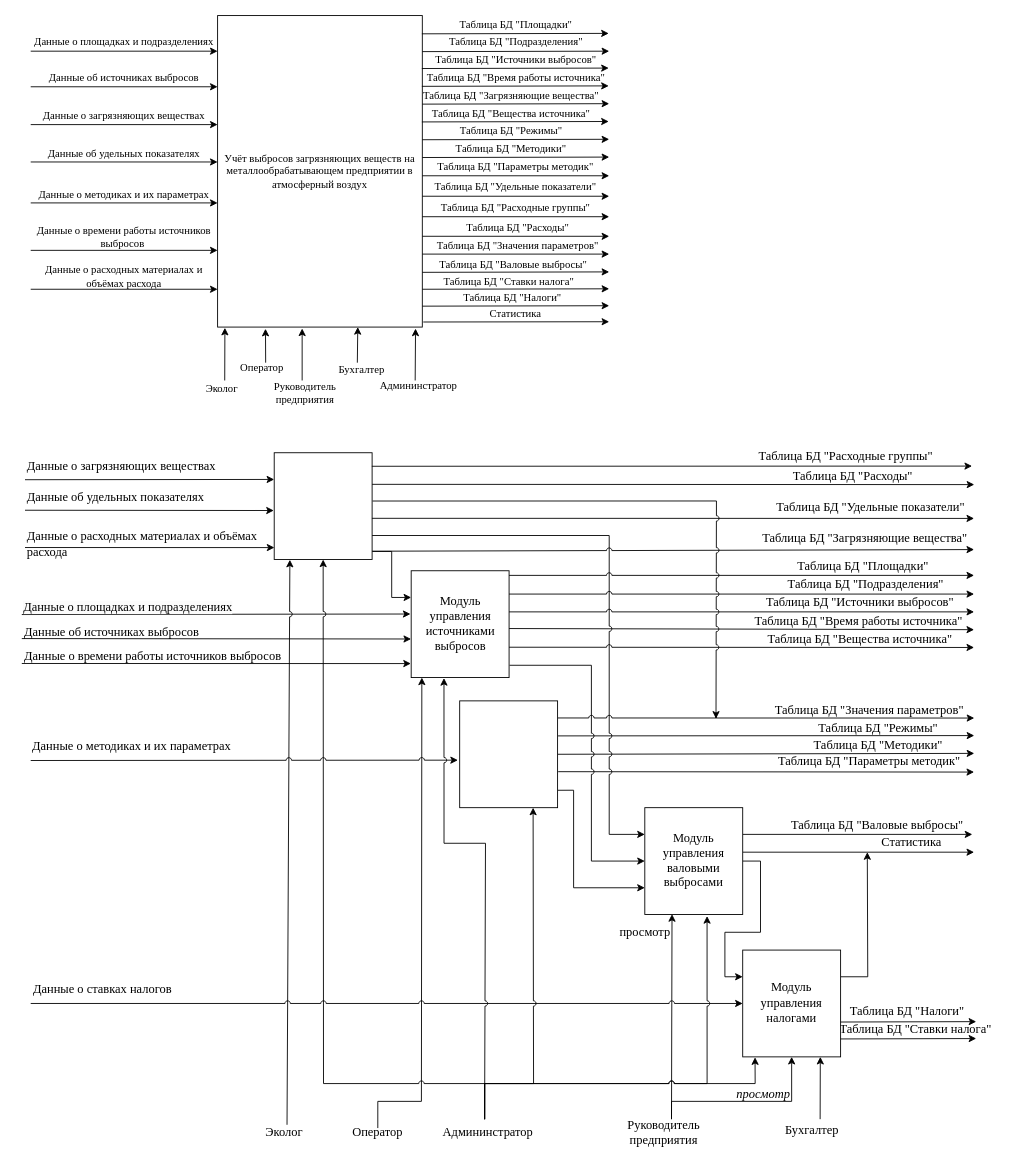
Some shapes in this 1018 by 1163 pixel diagram are drawn without their labels. Each missing label, with the centre of its shape:
Модуль управления веществами и удельными показателями: the point at 322,506
Модуль управления методикам и параметрами режимами: the point at 508,754
